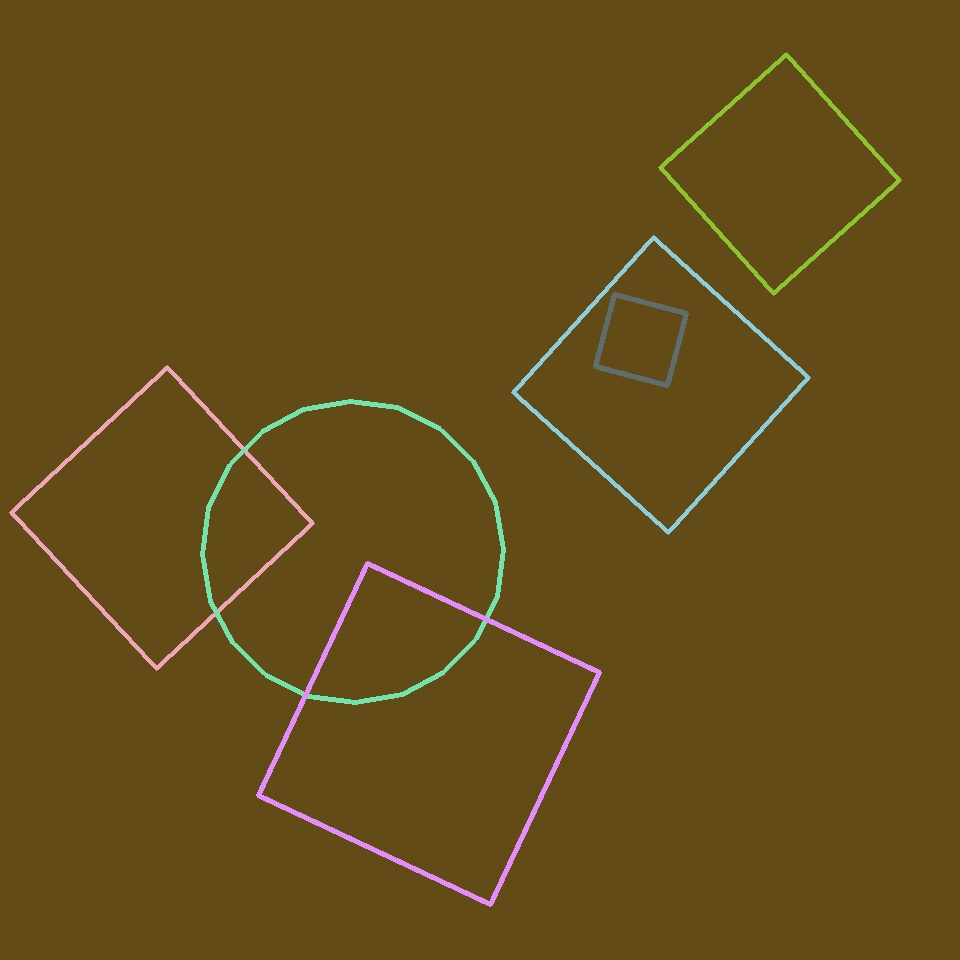square: (258, 564, 600, 904), (12, 368, 313, 668), (514, 238, 809, 532), (660, 54, 900, 294), (596, 294, 686, 386)
triangle: (203, 402, 504, 702)
